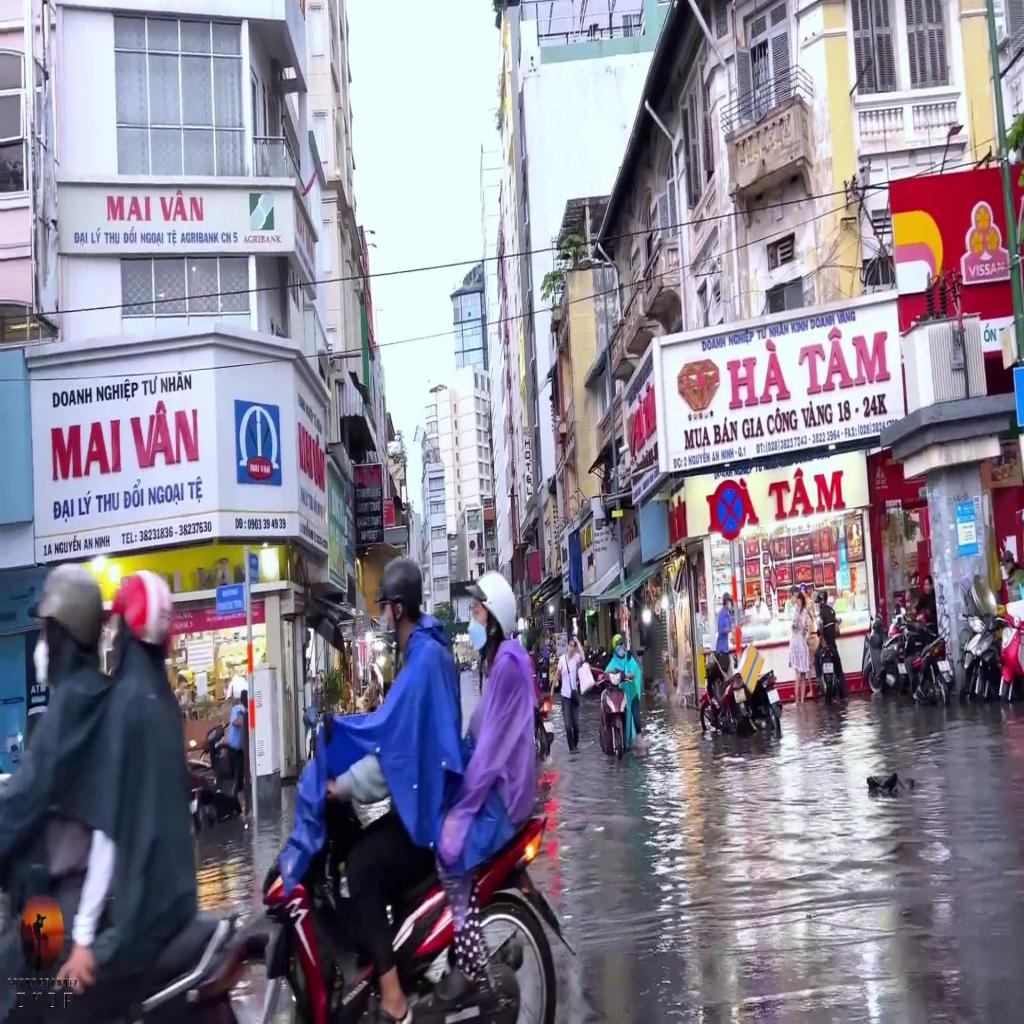cam_dung_xe_va_do_xe: (712, 479, 746, 542)
